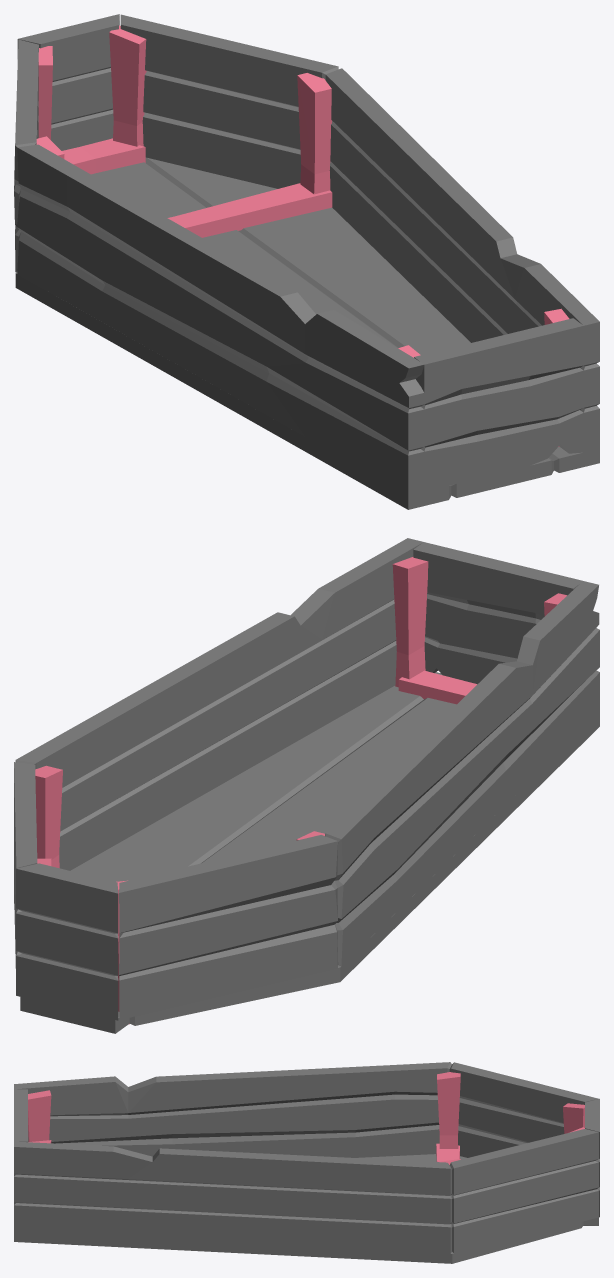
File: SM_Coffin_Bottom.fbx
3 renders of one model, top to bottom at view 1: azimuth 30°, elevation 25°; view 2: azimuth 150°, elevation 25°; view 3: azimuth 270°, elevation 25°, orthographic. The views are drawn at different scales.
Parts seen in each view (by area): view 1: Object004; view 2: Object004; view 3: Object004.
Boxes of the visible parts, bbox=[...] form: Object004: bbox=[14, 14, 599, 509]; Object004: bbox=[14, 538, 599, 1033]; Object004: bbox=[14, 1062, 599, 1263].
Bounding box in the file's own units: 95.06 × 40.43 × 220.
